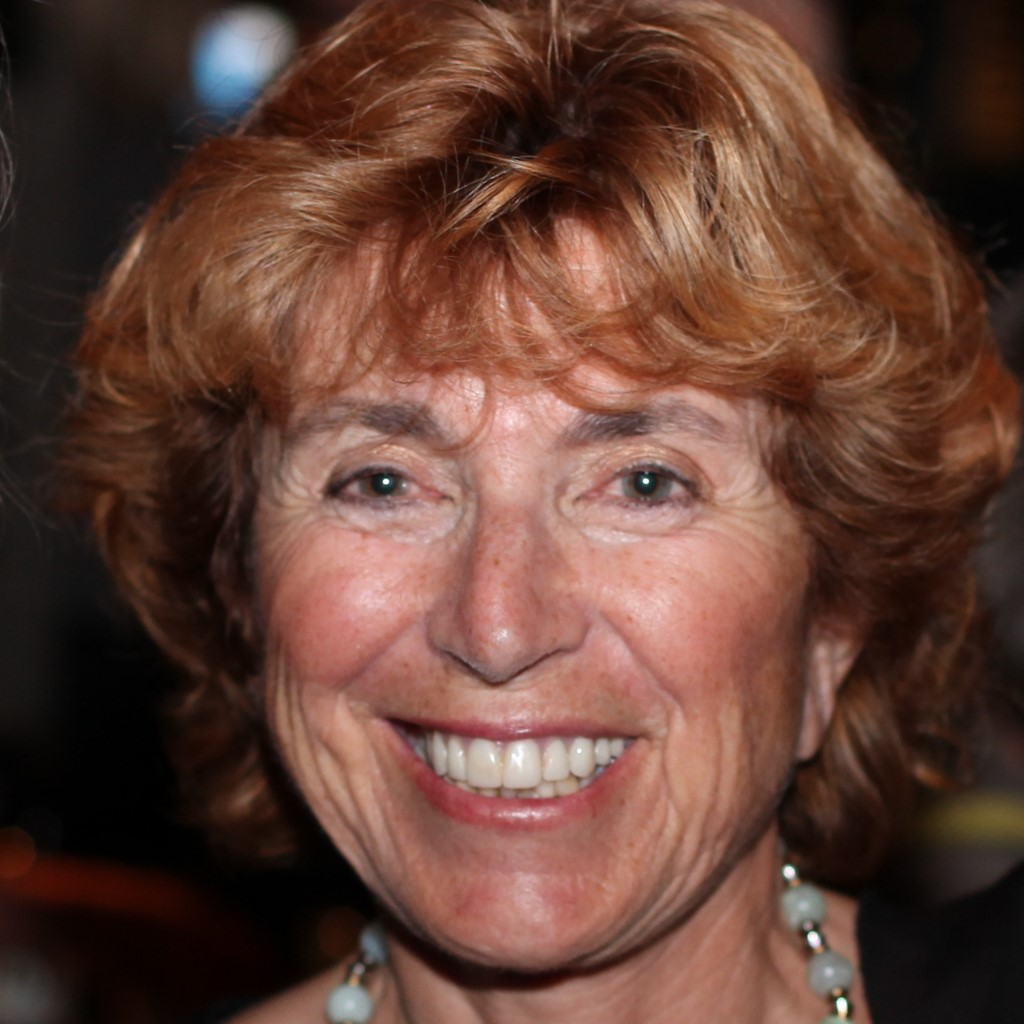sin_mascara: (220, 146, 857, 986)
